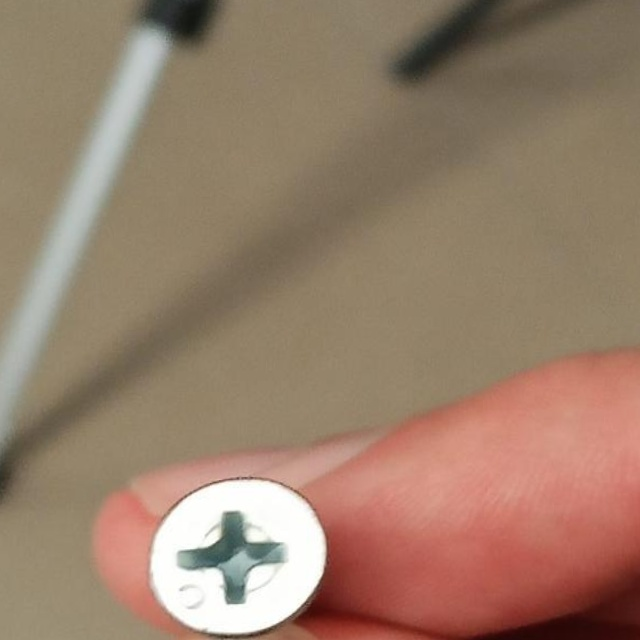phillips: (147, 475, 329, 640)
